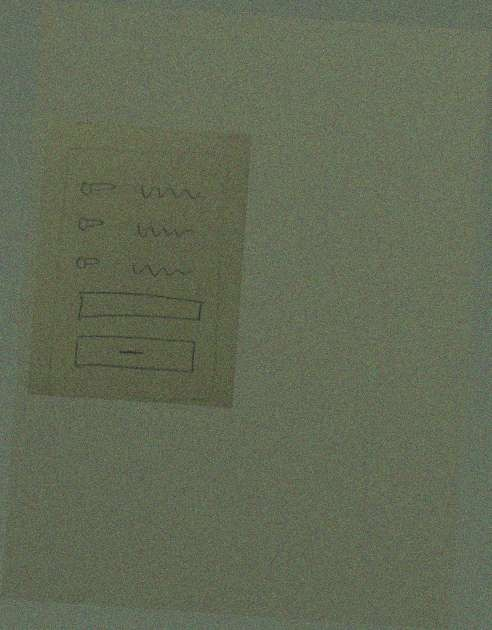button: (68, 329, 201, 379)
switch: (76, 175, 120, 203), (74, 213, 110, 237), (72, 250, 107, 274)
text: (127, 254, 199, 288), (133, 175, 206, 208), (132, 217, 199, 244)
text_input: (72, 285, 207, 330)
